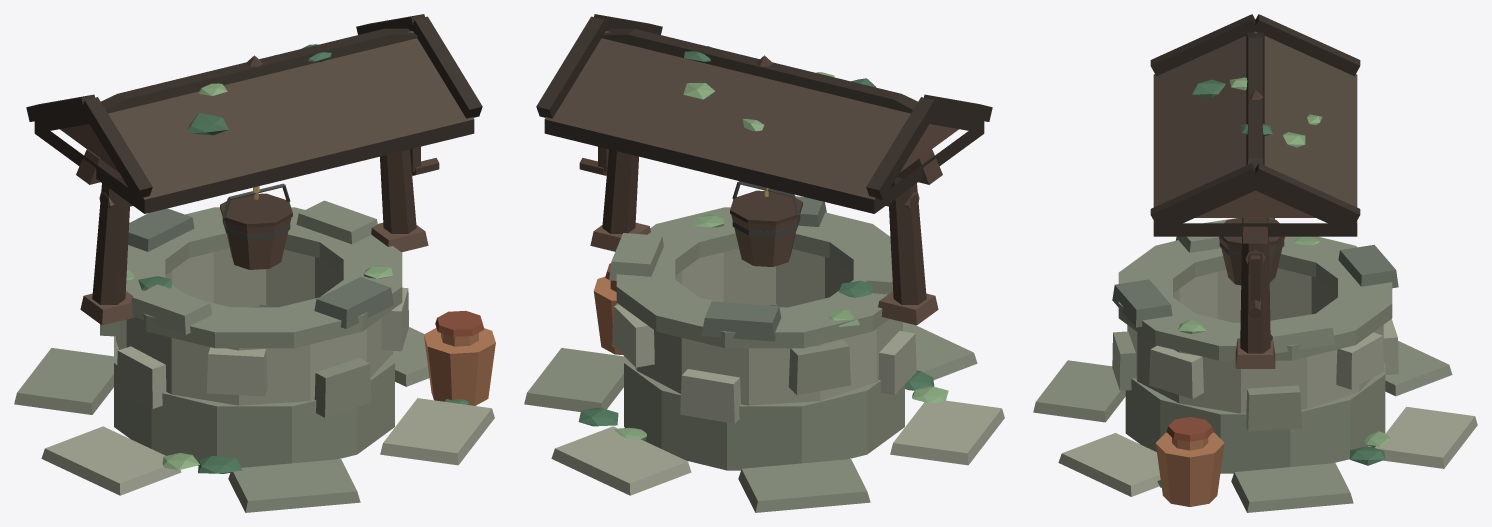
File: well.glb
3 renders of one model, left to right at view 1: azimuth 30°, elevation 25°; view 2: azimuth 150°, elevation 25°; view 3: azimuth 270°, elevation 25°, orthographic. The views are drawn at different scales.
Visible parts, largest first — view 1: well; view 2: well; view 3: well.
Part boxes in pixels (left/top/right/bottom): well: left=14, top=14, right=495, bottom=512; well: left=524, top=14, right=1004, bottom=512; well: left=1033, top=14, right=1477, bottom=512.
Bounding box in the file's own units: 2.45 × 2 × 2.45.
